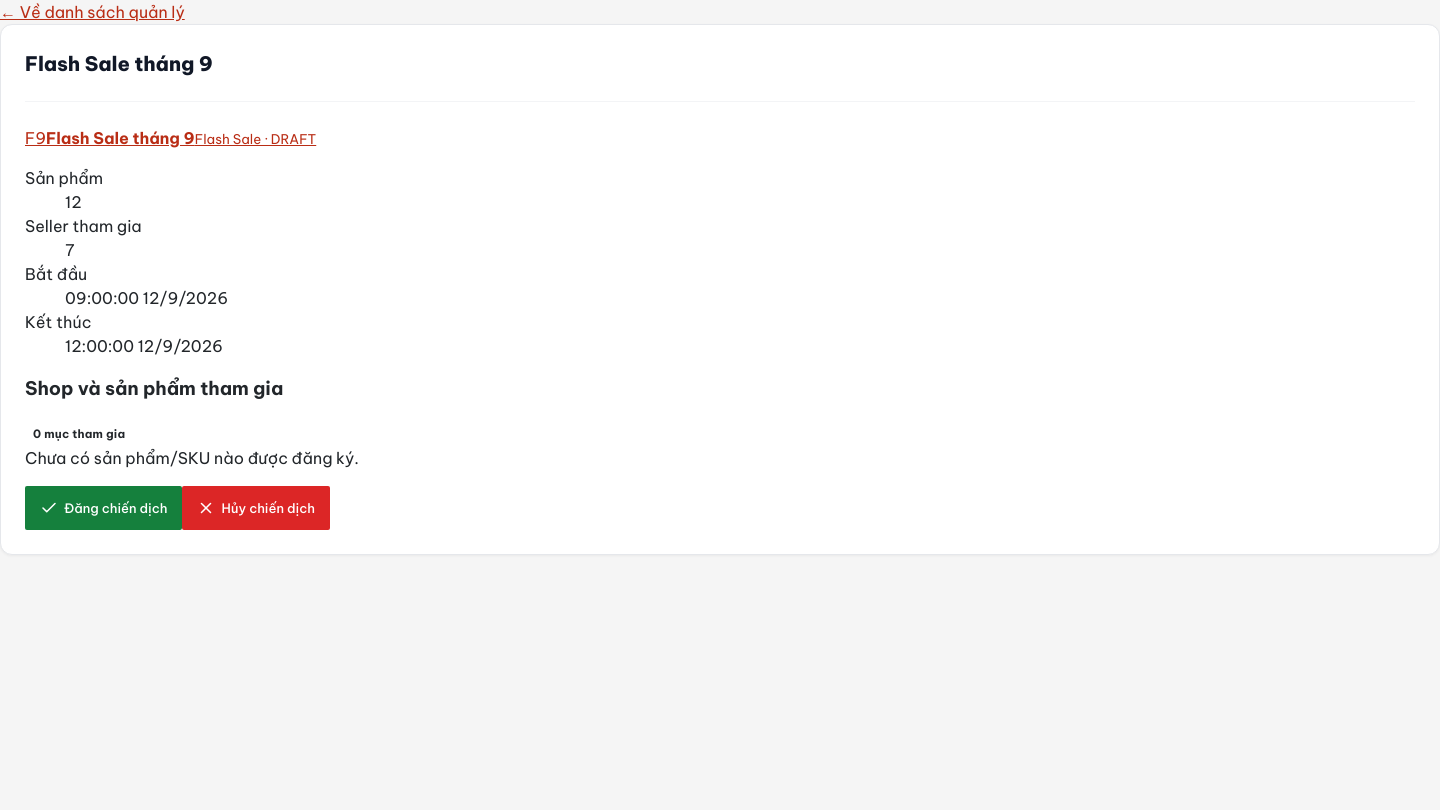
Test: Admin campaign detail actions › keeps the successful state when the authoritative refresh fails
Expected: the heading "Flash Sale tháng 9" is shown, [25,49,213,79]
Click the button "Đăng chiến dịch" at [104, 508], box [25,486,182,530]
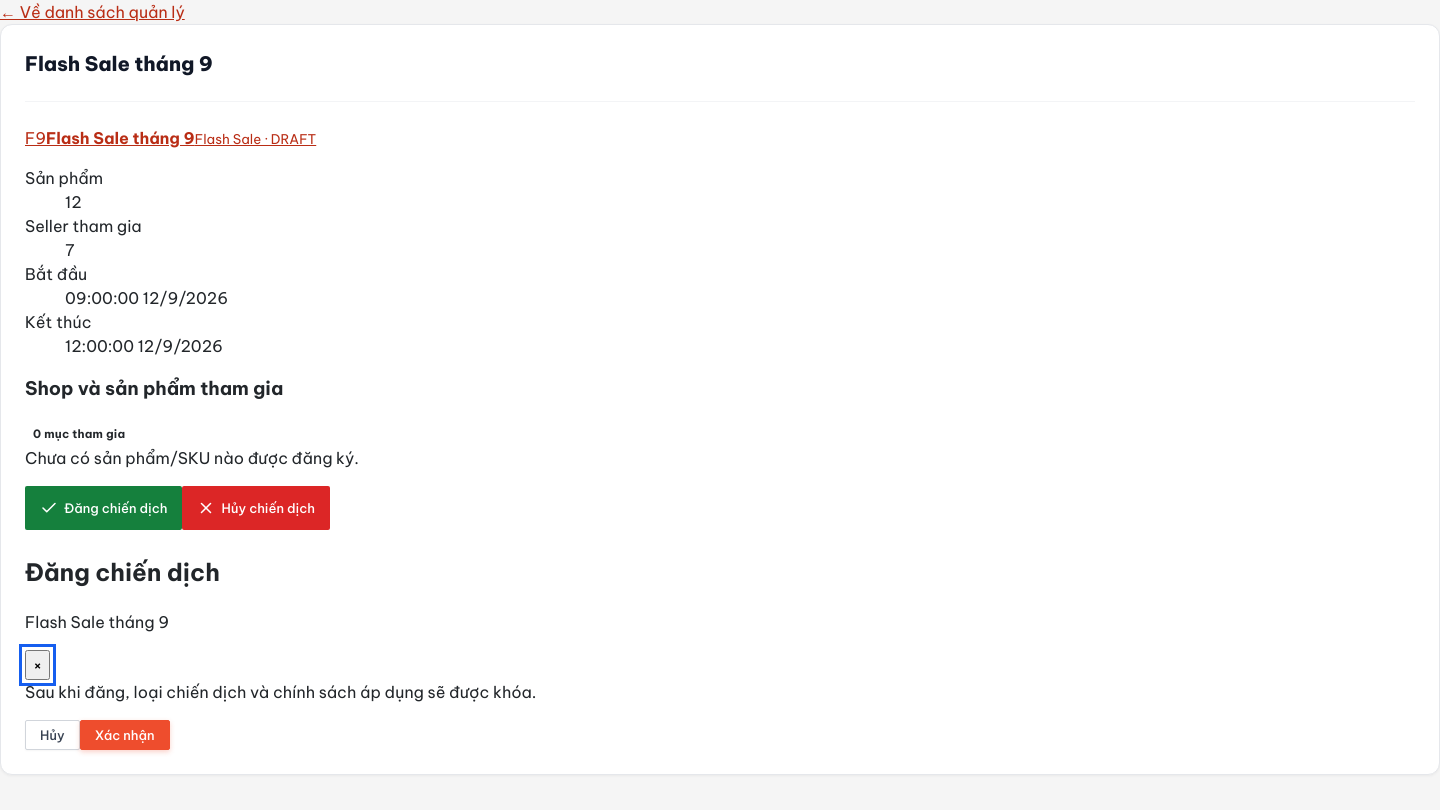
Submit the form, box [25,682,536,750]
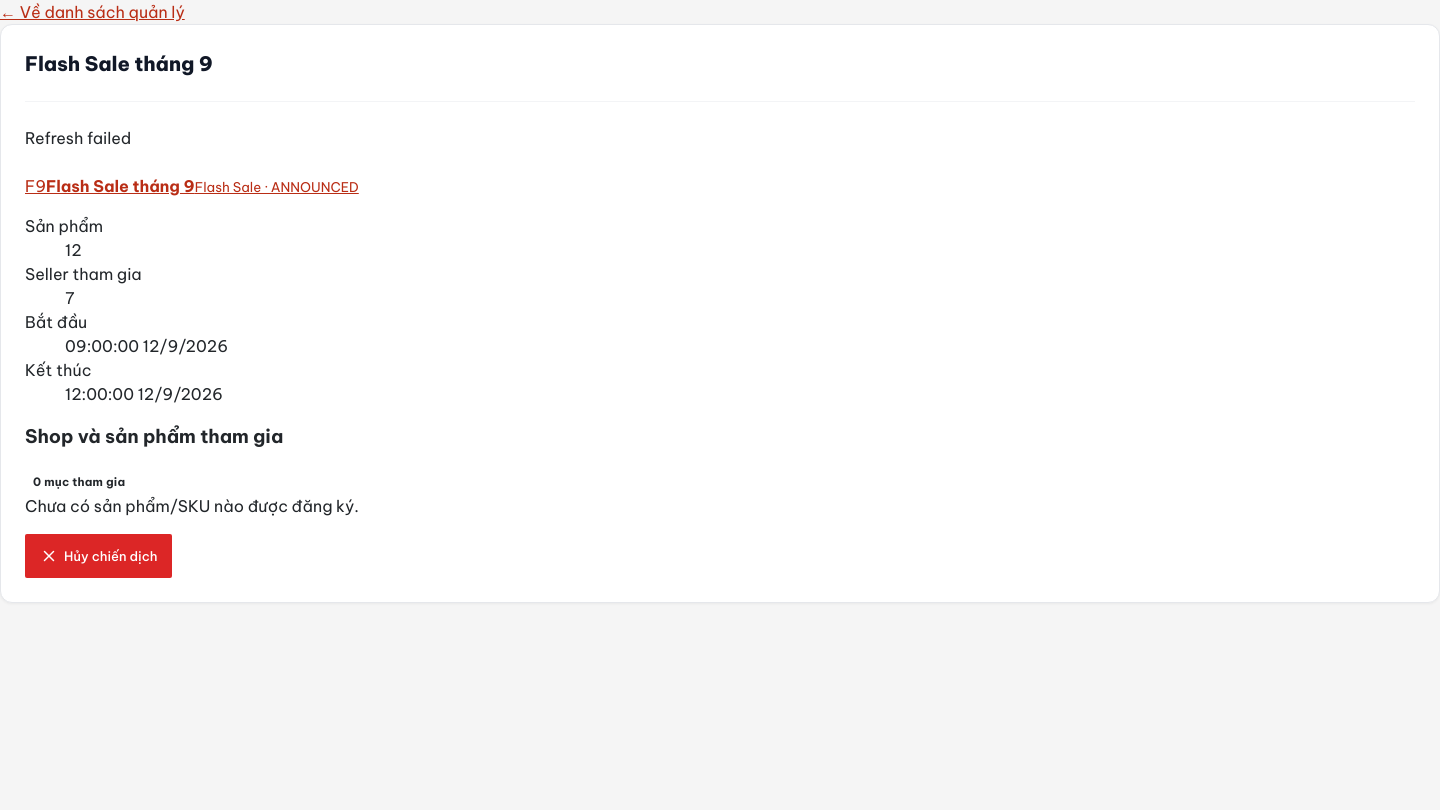
Result: the dialog is gone
Result: the message reads "Refresh failed" at [25,128,131,148]
